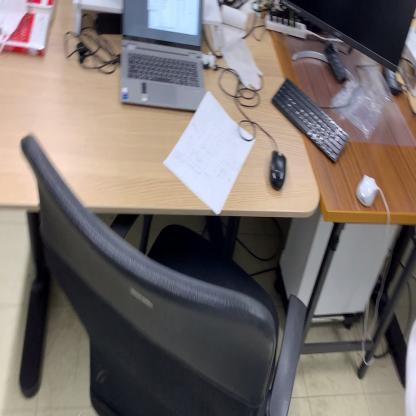chair: (19, 133, 311, 416)
